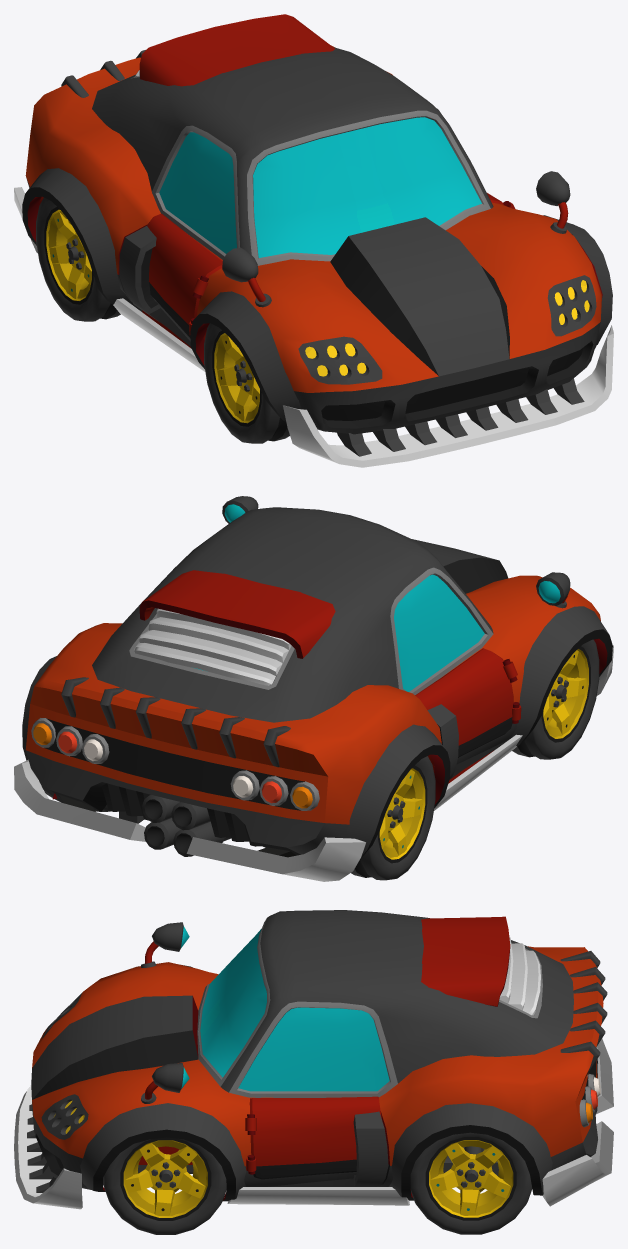
File: VEH15-C.fbx
The picture shows the model from 3 angles, top to bottom: view 1: azimuth 30°, elevation 25°; view 2: azimuth 150°, elevation 25°; view 3: azimuth 270°, elevation 25°; orthographic projection. The views are drawn at different scales.
Visible parts, largest first — view 1: VEH15_C, V15C_Wheel_FR, V15C_Wheel_BR; view 2: VEH15_C, V15C_Wheel_BR, V15C_Wheel_FR; view 3: VEH15_C, V15C_Wheel_BL, V15C_Wheel_FL.
Boxes of the visible parts, x1,y1,x2,y2 form: VEH15_C: [14, 14, 613, 467]; V15C_Wheel_FR: [204, 323, 289, 443]; V15C_Wheel_BR: [36, 197, 120, 321]; VEH15_C: [14, 496, 613, 881]; V15C_Wheel_BR: [351, 756, 435, 880]; V15C_Wheel_FR: [512, 639, 599, 759]; VEH15_C: [14, 910, 613, 1209]; V15C_Wheel_BL: [410, 1132, 532, 1234]; V15C_Wheel_FL: [103, 1137, 226, 1234].
Size of the model in its own units: 278 by 174 by 420.
Materials: 1 (1 with a texture image).
